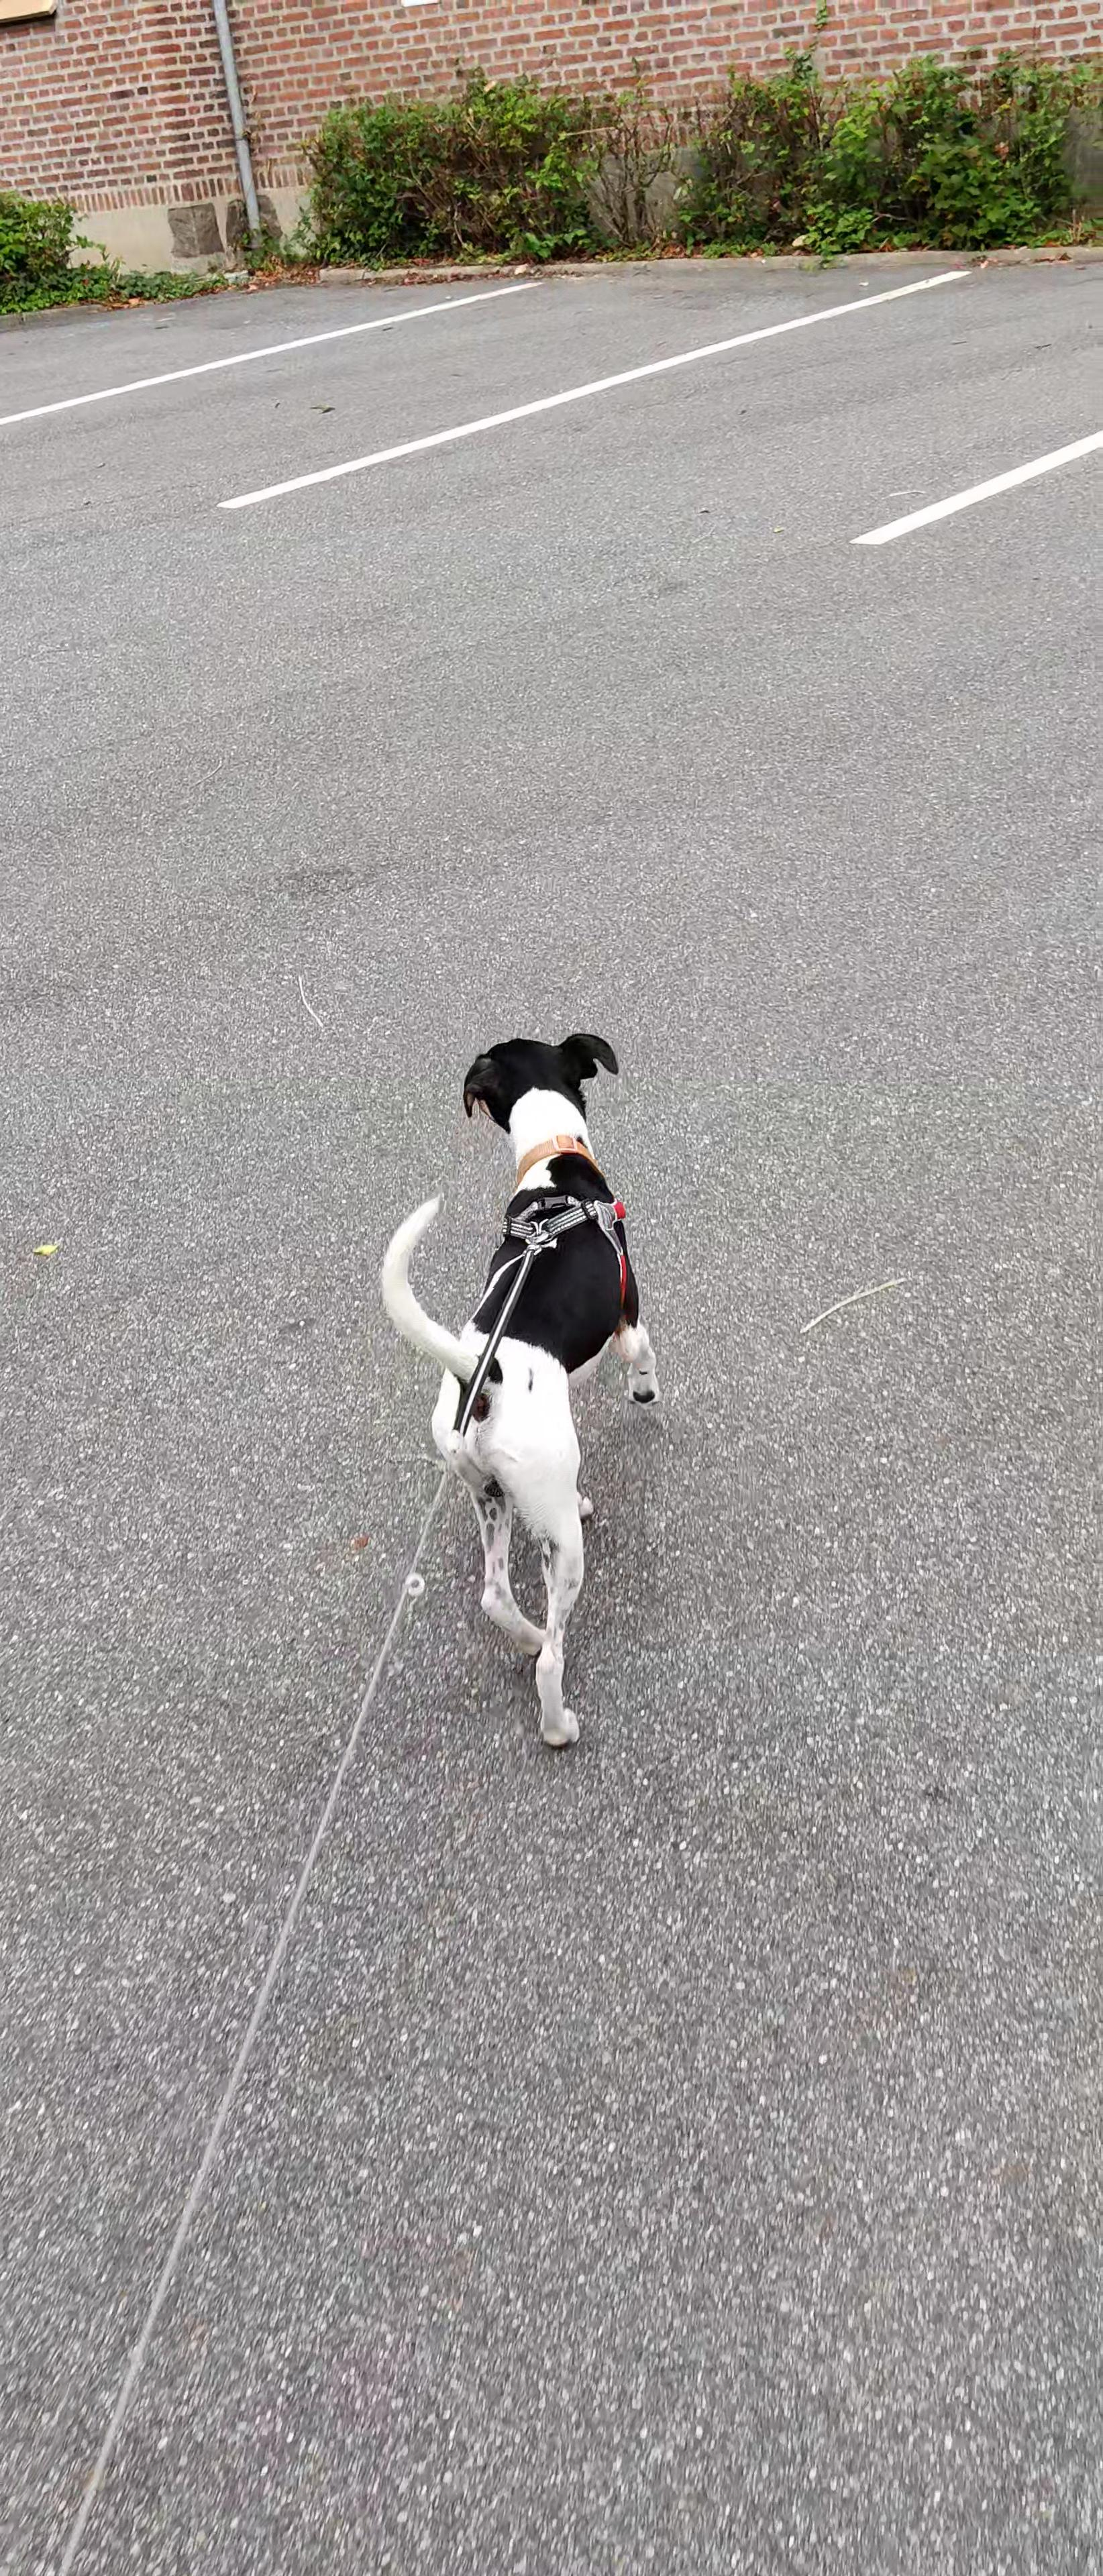Dog: (363, 1000, 707, 1789)
